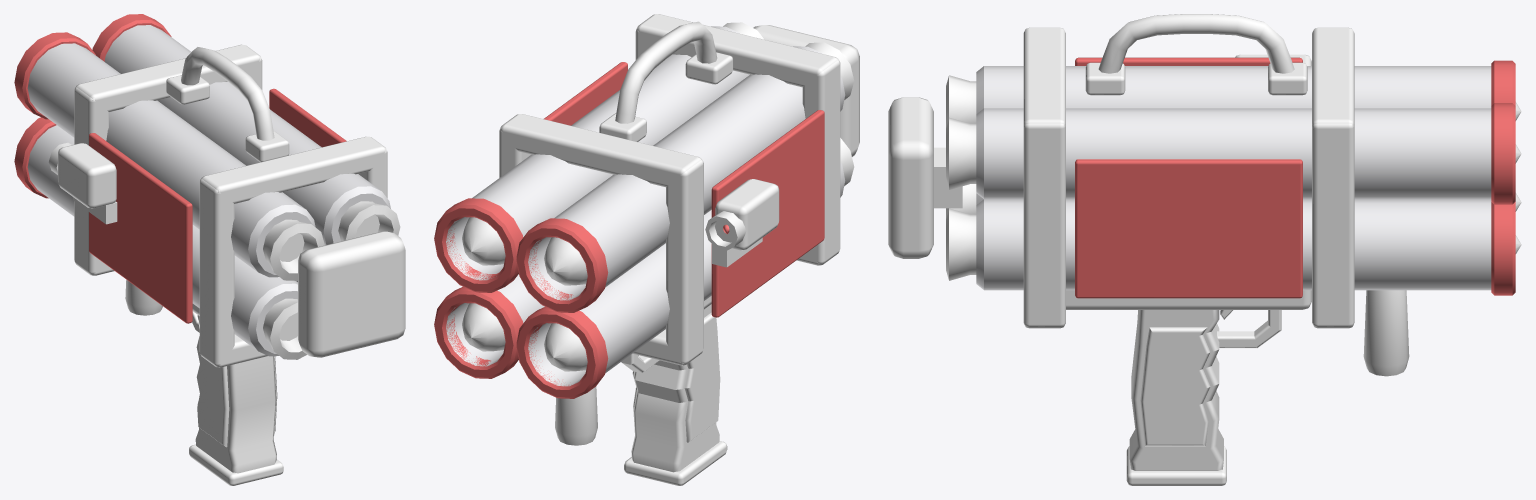
Rendered from RocketRig.glb.
The picture shows the model from 3 angles, left to right: view 1: azimuth 30°, elevation 25°; view 2: azimuth 150°, elevation 25°; view 3: azimuth 270°, elevation 25°; orthographic projection. The views are drawn at different scales.
Parts seen in each view (by area): view 1: Base, Primary, AccentTrim; view 2: Base, Primary, AccentTrim; view 3: Base, Primary, AccentTrim.
Boxes of the visible parts, x1,y1,x2,y2 form: Base: (48, 44, 405, 485); Primary: (27, 25, 390, 356); AccentTrim: (14, 14, 346, 323); Base: (462, 14, 859, 485); Primary: (446, 26, 845, 386); AccentTrim: (434, 62, 824, 398); Base: (888, 14, 1521, 485); Primary: (976, 66, 1491, 290); AccentTrim: (1075, 57, 1515, 298).
Size of the model in its own units: 1.89 by 3.33 by 4.17.
